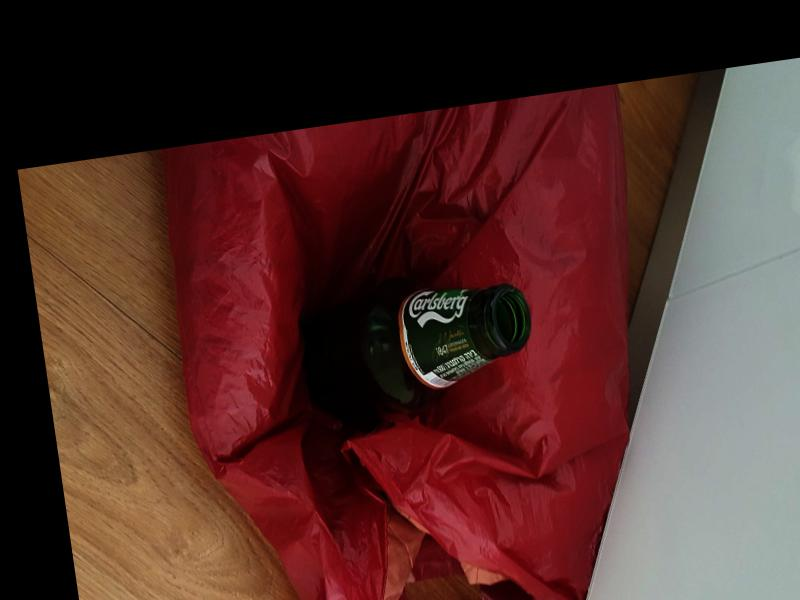Beer: (291, 262, 538, 427)
